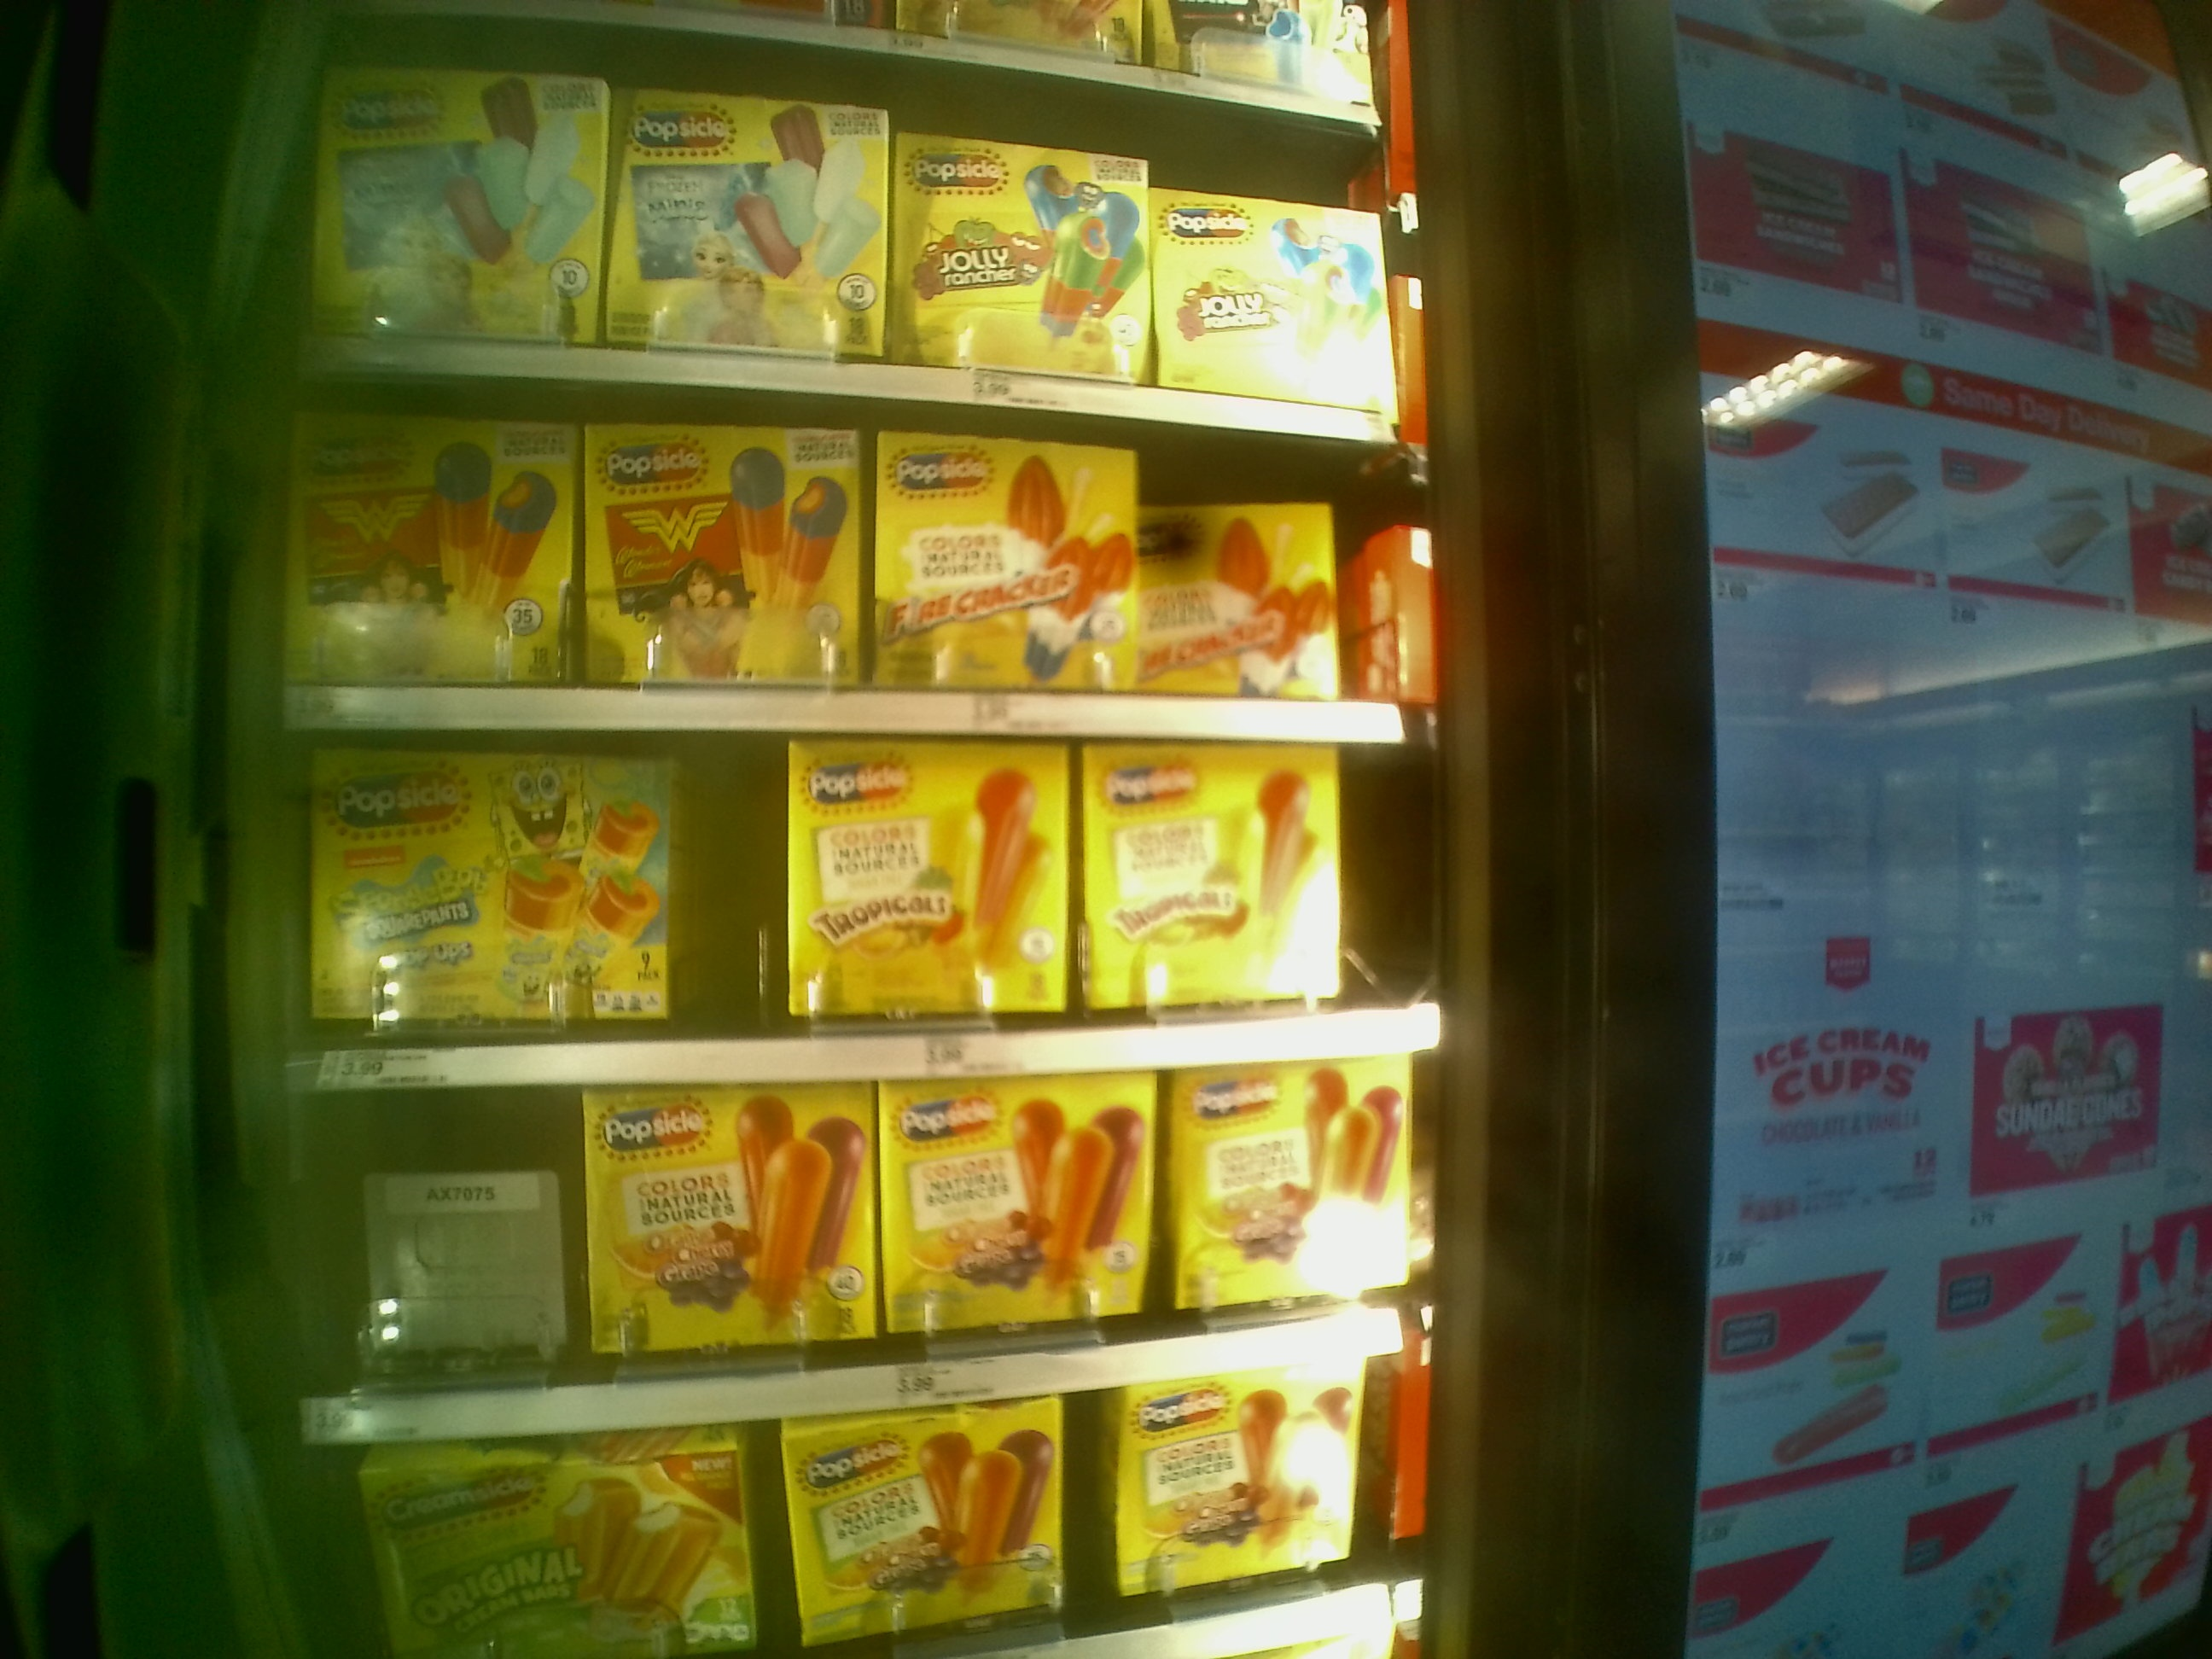shelf: (261, 378, 1414, 746), (291, 742, 1433, 1079)
